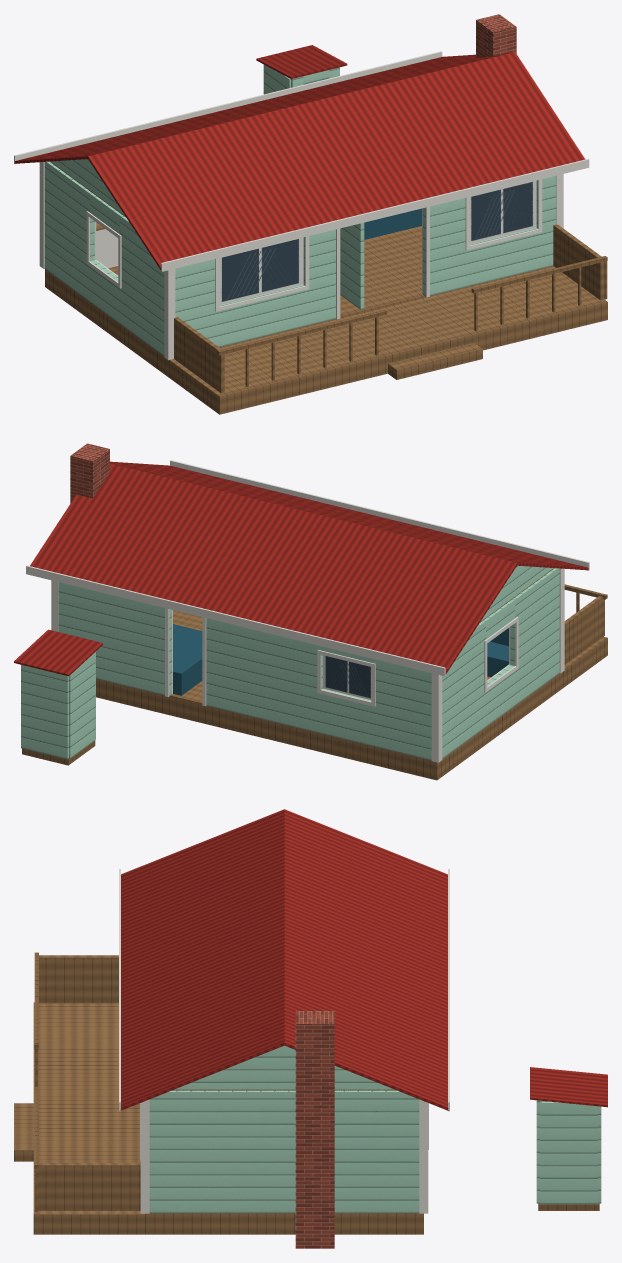
File: bach.obj
3 views of the same model, one above another, from view 1: azimuth 30°, elevation 25°; view 2: azimuth 150°, elevation 25°; view 3: azimuth 270°, elevation 25° (orthographic). The views are drawn at different scales.
Visible parts, largest first — view 1: roof, walls, deck, trim, glass, floor, longdrop, furniture, chimney; view 2: roof, walls, trim, floor, longdrop, deck, furniture, chimney, glass; view 3: roof, walls, deck, longdrop, chimney, floor, trim.
Part boxes in pixels (x1,y1,x2,y2): roof: (14, 52, 585, 269); walls: (44, 159, 556, 355); deck: (169, 224, 607, 414); trim: (14, 51, 589, 360); glass: (219, 180, 536, 304); floor: (45, 226, 553, 377); longdrop: (256, 45, 347, 94); furniture: (96, 208, 421, 268); chimney: (476, 14, 516, 57); roof: (30, 461, 588, 674); walls: (58, 565, 559, 760); trim: (26, 460, 589, 762); floor: (96, 610, 559, 780); longdrop: (14, 629, 102, 765); deck: (559, 584, 607, 690); furniture: (173, 624, 508, 695); chimney: (70, 443, 109, 503); glass: (323, 655, 371, 699); roof: (120, 809, 448, 1110); walls: (149, 1045, 419, 1213); deck: (14, 952, 144, 1234); longdrop: (530, 1067, 607, 1210); chimney: (295, 1011, 334, 1248); floor: (145, 1213, 423, 1234); trim: (119, 869, 449, 1213).
Bounding box in the file's own units: 10.05 × 4.45 × 10.65.
Materials: 7 (7 with a texture image).
